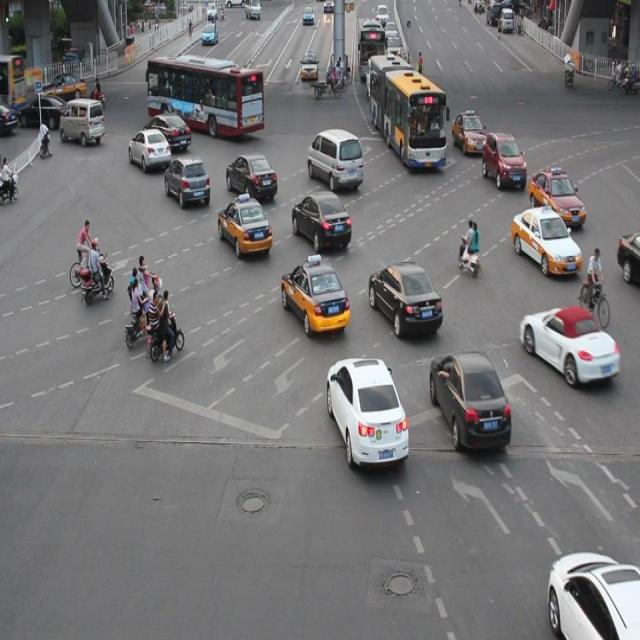car: (544, 548, 640, 640), (326, 355, 407, 464), (518, 304, 618, 386), (428, 348, 508, 448), (368, 260, 442, 336), (280, 259, 349, 334), (510, 206, 579, 280), (291, 191, 352, 251), (528, 167, 584, 229), (218, 196, 271, 257), (481, 130, 525, 190), (225, 152, 278, 199), (164, 156, 210, 208), (144, 114, 191, 154), (129, 129, 170, 172), (452, 110, 487, 153), (616, 231, 640, 283)
truck: (307, 129, 363, 190), (60, 99, 104, 143)
van: (145, 57, 265, 137), (369, 54, 444, 166)
